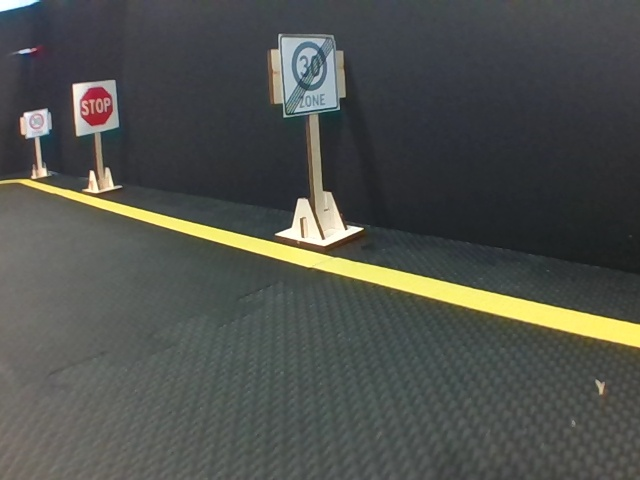30: (23, 110, 47, 137)
no30: (279, 36, 337, 108)
stop: (70, 83, 119, 131)
